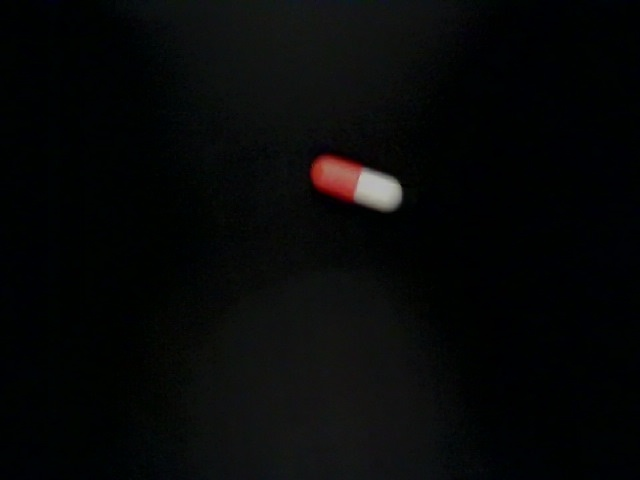YHLJ: (132, 334, 392, 480)
